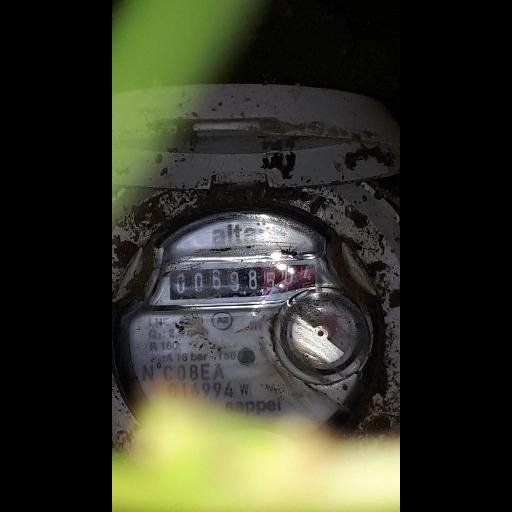0: (190, 270, 206, 299), (281, 265, 296, 293), (175, 271, 189, 299)
4: (300, 264, 315, 289)
5: (263, 266, 278, 296)
6: (208, 268, 224, 299)
8: (244, 267, 261, 297)
9: (226, 267, 242, 298)
border_water_meter_number: (166, 259, 319, 306)
